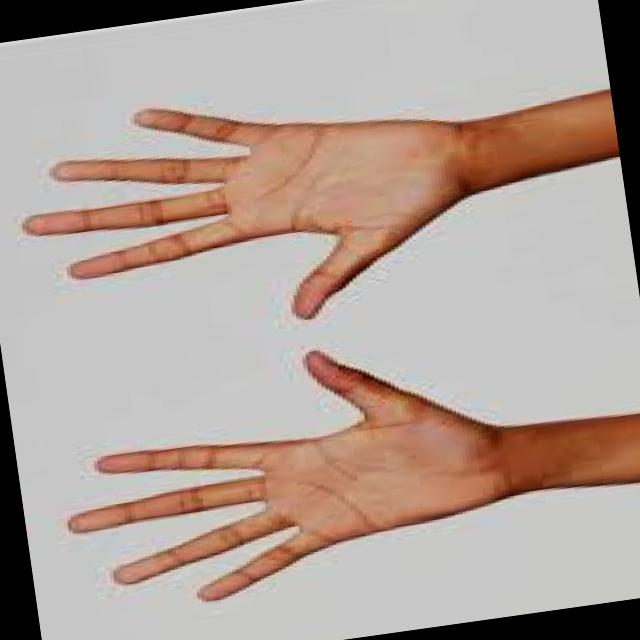Hand: (0, 55, 501, 363), (38, 319, 540, 626)
